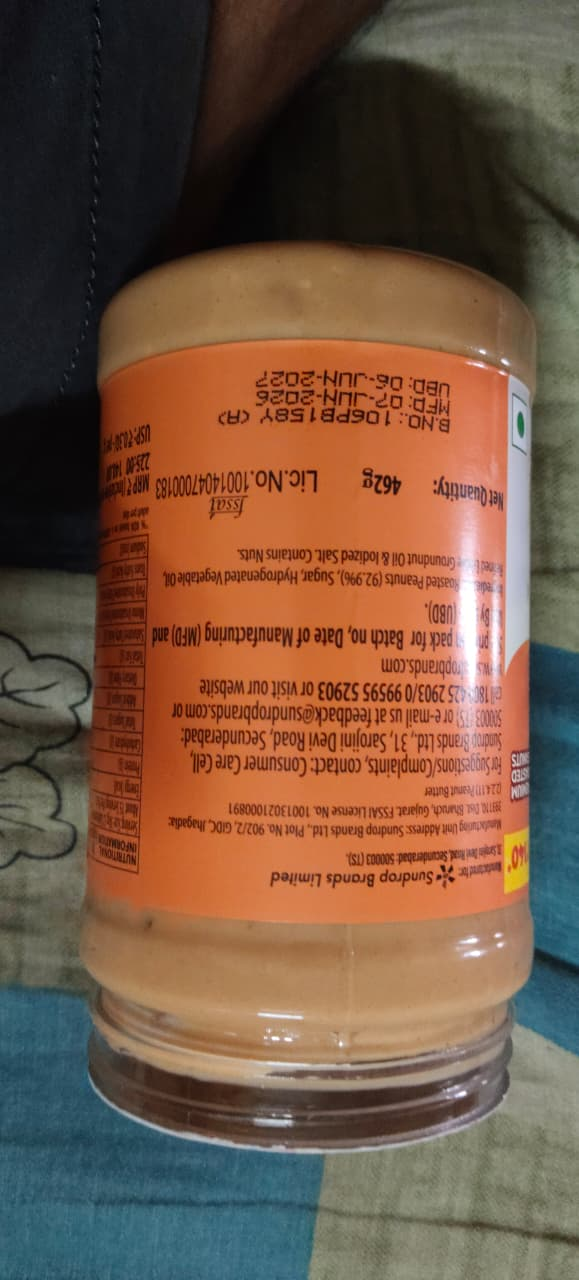consumer_care: (150, 658, 500, 778)
manufacturer: (251, 386, 453, 417), (249, 864, 461, 891)
mrp: (77, 473, 157, 504)
net_qty: (358, 465, 517, 519)
